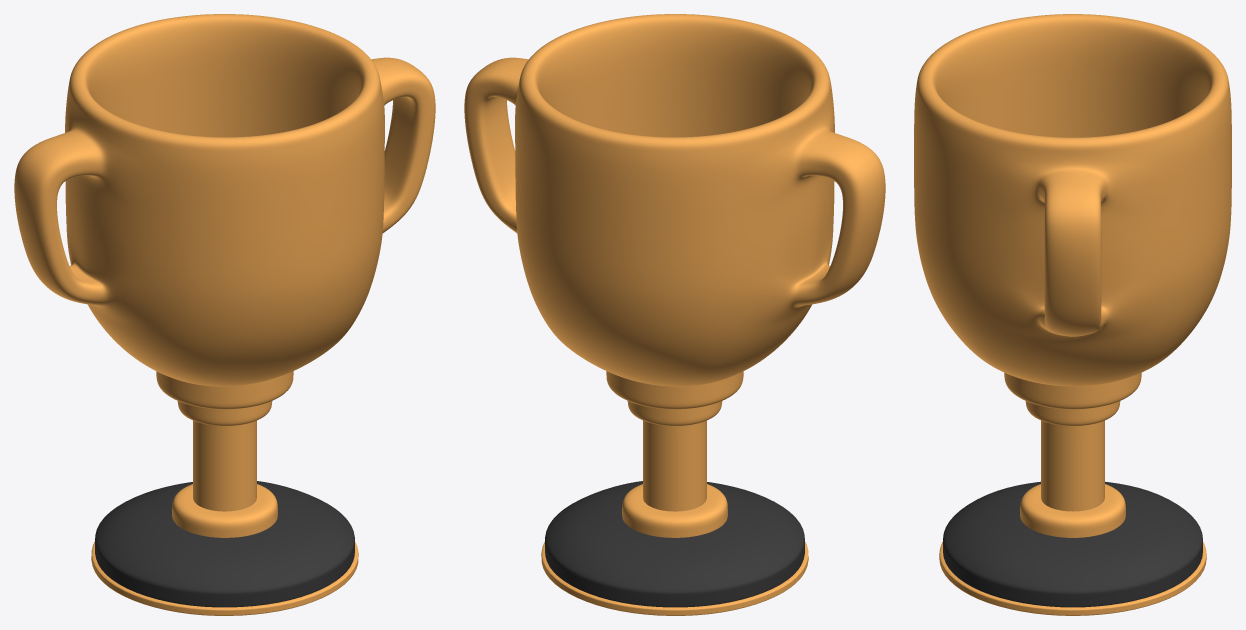
The model's file is trophy.fbx.
The picture shows the model from 3 angles, left to right: view 1: azimuth 30°, elevation 25°; view 2: azimuth 150°, elevation 25°; view 3: azimuth 270°, elevation 25°; orthographic projection.
Visible parts, largest first — view 1: Cube.016; view 2: Cube.016; view 3: Cube.016.
Part boxes in pixels (box(x1,y1,x2,y2)): Cube.016: box(14, 14, 435, 615); Cube.016: box(464, 14, 885, 615); Cube.016: box(914, 14, 1231, 615).
Bounding box in the file's own units: 168 × 192 × 114.
